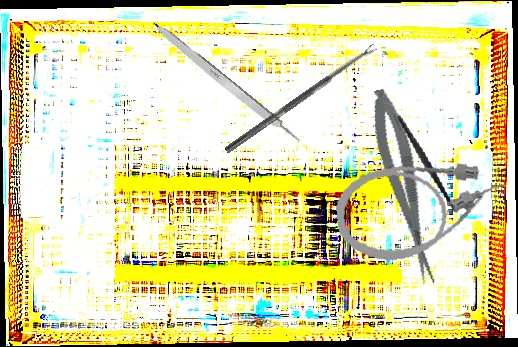Cannula: (332, 153, 513, 267)
Chopper: (382, 93, 453, 213)
Micro Scissor: (363, 85, 443, 289)
Scalpel Handle: (147, 18, 304, 149)
Surgical Spoon: (224, 43, 378, 155)
